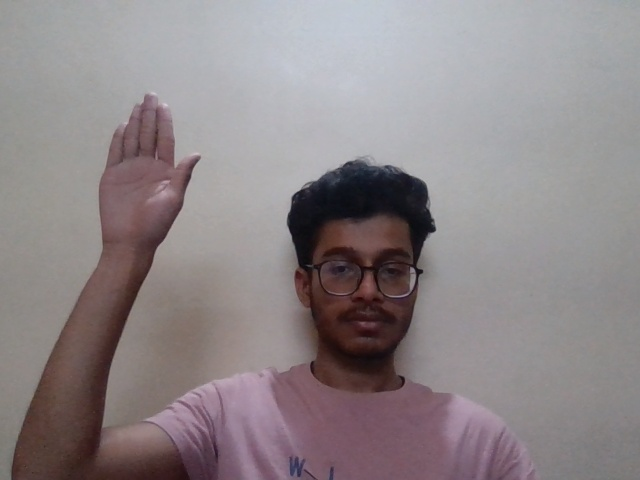hello: (91, 88, 214, 252)
